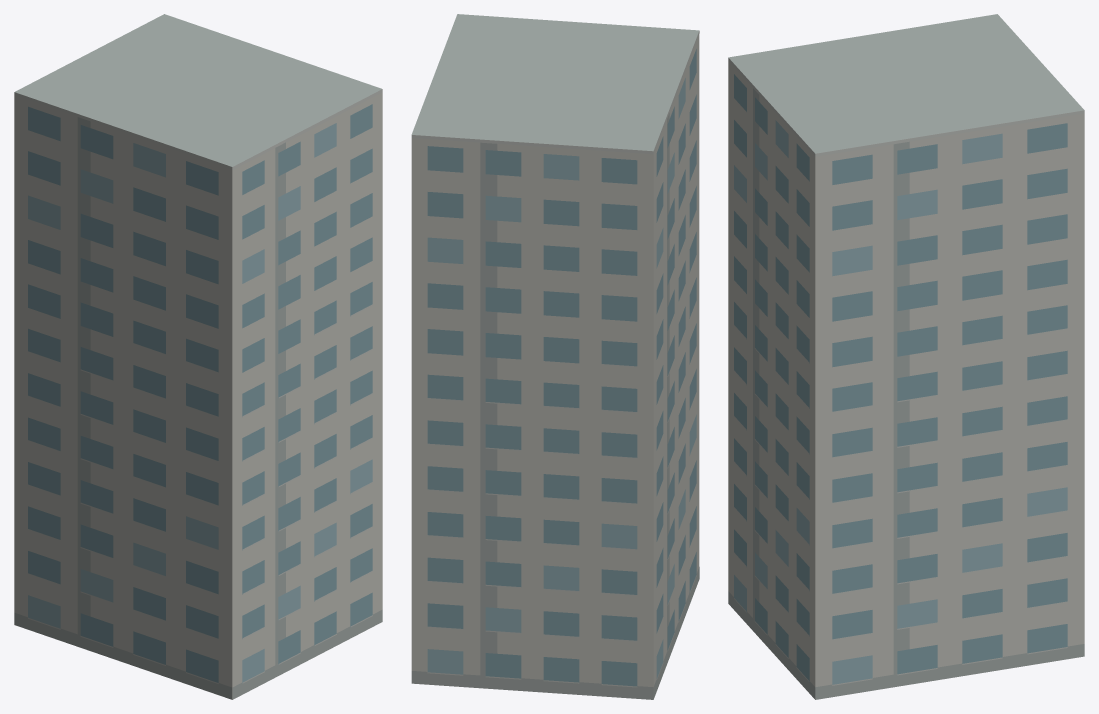
The model's file is residential-a9ce8a96-3080-47f3-88ca-bf5c6c2b77f1.glb.
3 views of the same model, side by side, from view 1: azimuth 30°, elevation 25°; view 2: azimuth 150°, elevation 25°; view 3: azimuth 270°, elevation 25° (orthographic). The views are drawn at different scales.
Parts seen in each view (by area): view 1: residential-a9ce8a96-3080-47f3-88ca-bf5c6c2b77f1.tmp; view 2: residential-a9ce8a96-3080-47f3-88ca-bf5c6c2b77f1.tmp; view 3: residential-a9ce8a96-3080-47f3-88ca-bf5c6c2b77f1.tmp.
Part boxes in pixels (box(x1,y1,x2,y2)): residential-a9ce8a96-3080-47f3-88ca-bf5c6c2b77f1.tmp: box(14, 14, 382, 699); residential-a9ce8a96-3080-47f3-88ca-bf5c6c2b77f1.tmp: box(411, 14, 699, 699); residential-a9ce8a96-3080-47f3-88ca-bf5c6c2b77f1.tmp: box(728, 14, 1084, 699).
Bounding box in the file's own units: 23.06 × 42 × 24.85.
